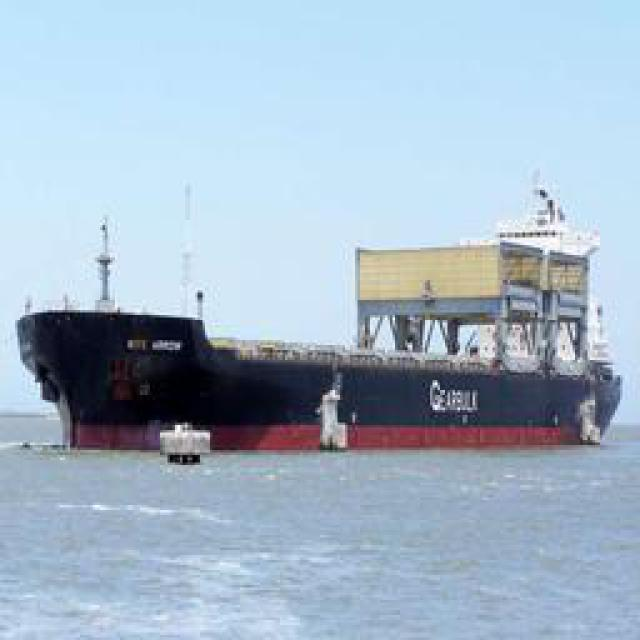Ship: (57, 174, 610, 449)
